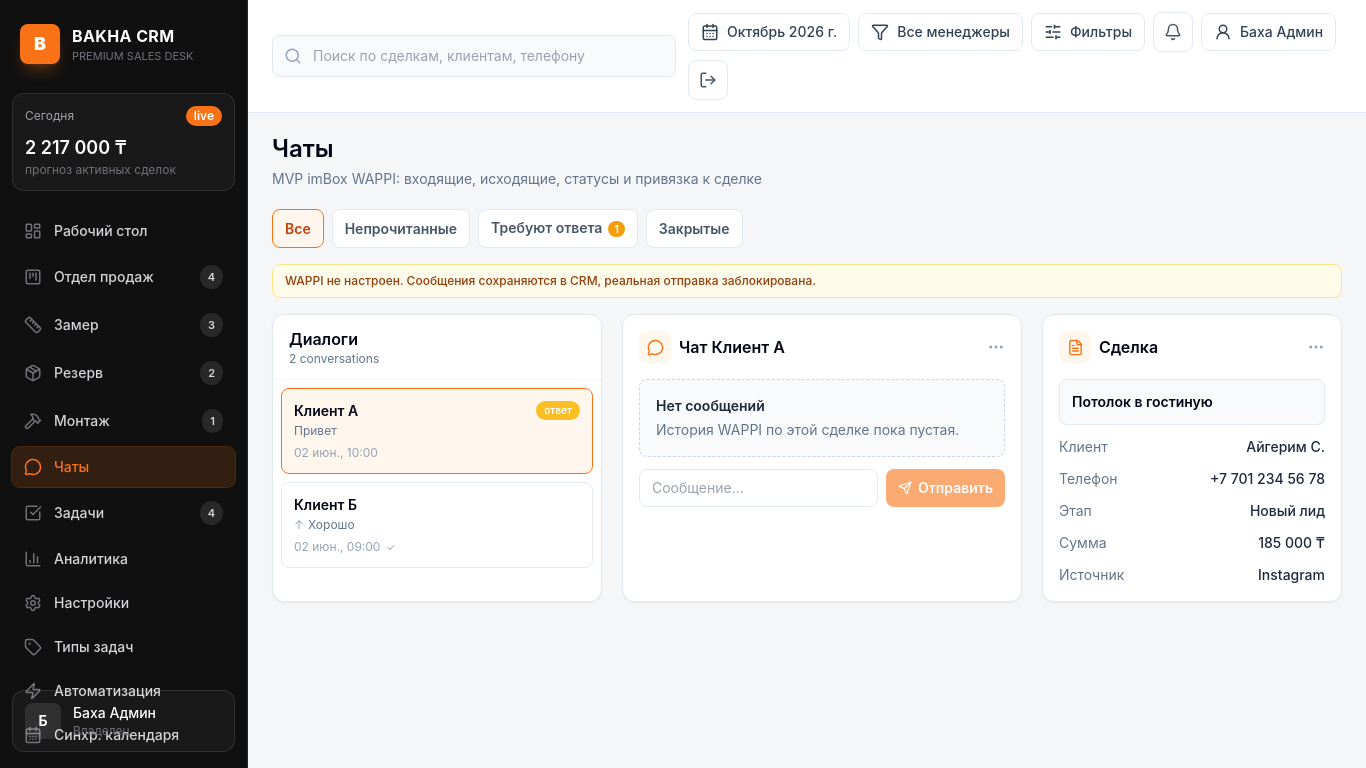
Bakha CRM smoke › needs_reply filter shows only conversations with needsReply=true
The image size is (1366, 768).
Check: the heading "Чаты" is shown, box [272,134,334,163]
Check: the text "Клиент А" is shown, box [294,402,358,419]
Note: Click "Требуют ответа" filter
Step 1. Click the button "Требуют ответа1" → (558, 228), box [478,209,638,248]
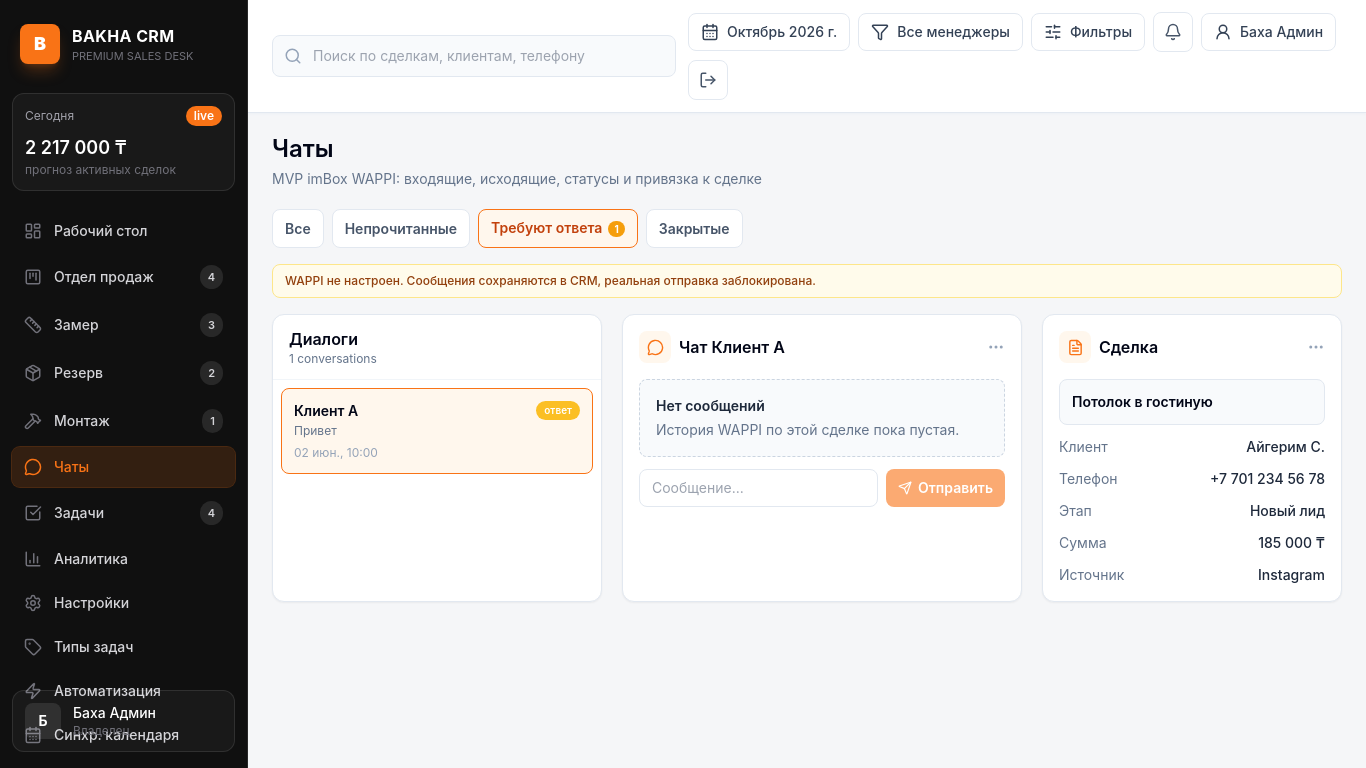
Check: the text "Клиент А" is shown, box [294,402,358,419]
Check: the button "Клиент Б" is gone
